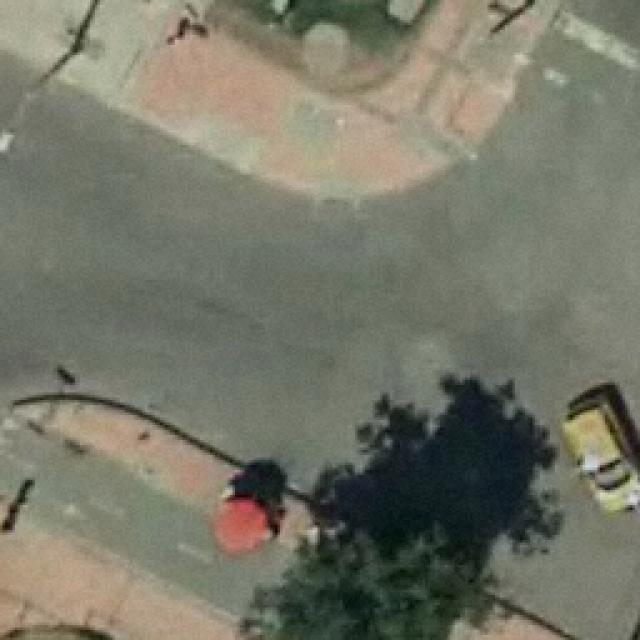vendedor_ambulante: (210, 492, 276, 558)
